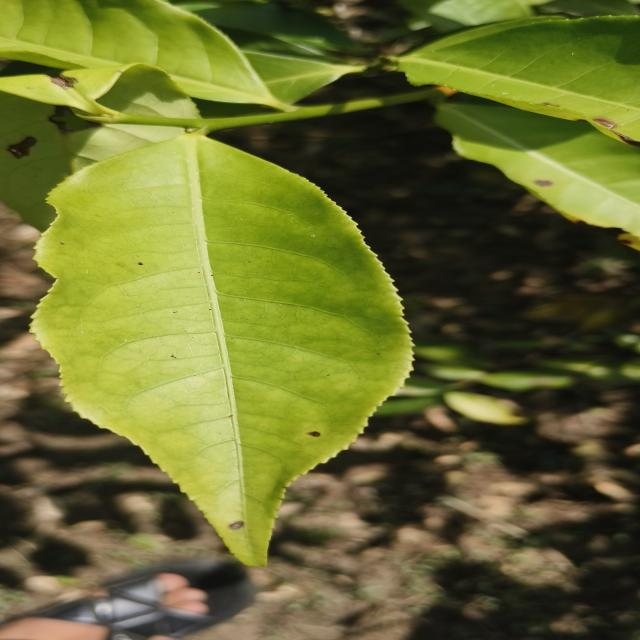Leaf: (32, 133, 411, 565), (0, 64, 200, 231), (396, 15, 640, 143), (0, 0, 285, 108), (436, 98, 640, 243)
